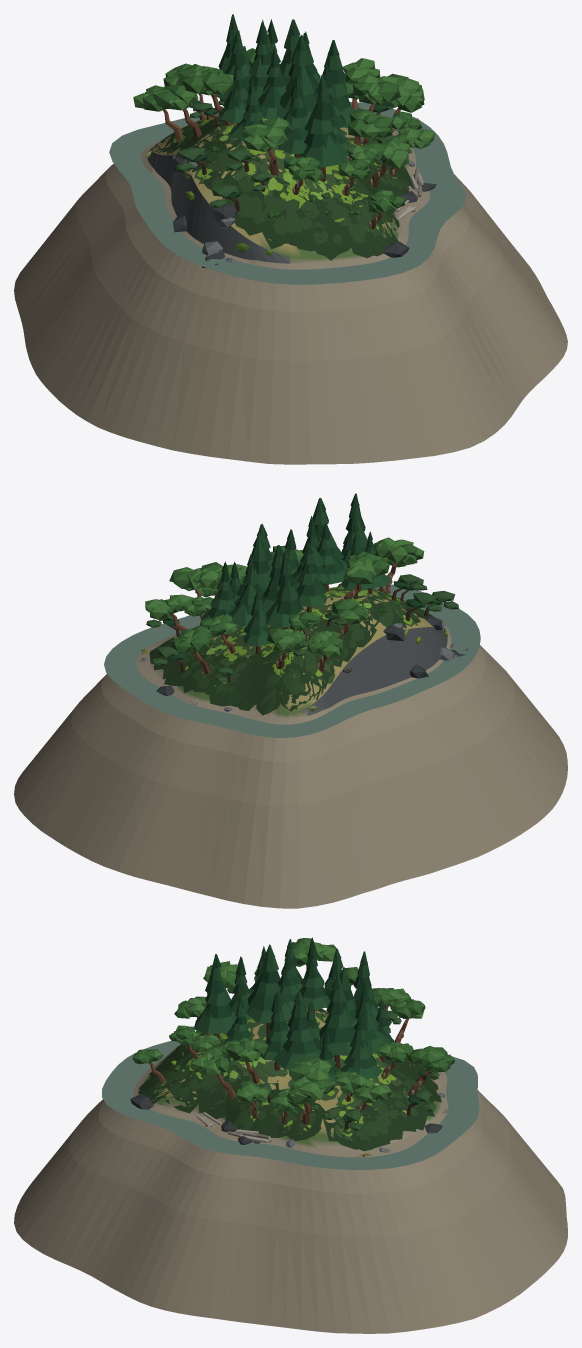
Rendered from chunk_2_4.glb.
3 renders of one model, top to bottom at view 1: azimuth 30°, elevation 25°; view 2: azimuth 150°, elevation 25°; view 3: azimuth 270°, elevation 25°, orthographic. The views are drawn at different scales.
Visible parts, largest first — view 1: chunk_2_4; view 2: chunk_2_4; view 3: chunk_2_4.
Boxes of the visible parts, <box> form: chunk_2_4: <box>14,14,567,464</box>; chunk_2_4: <box>14,493,567,908</box>; chunk_2_4: <box>14,937,567,1333</box>.
Size of the model in its own units: 93.92 by 58 by 103.
